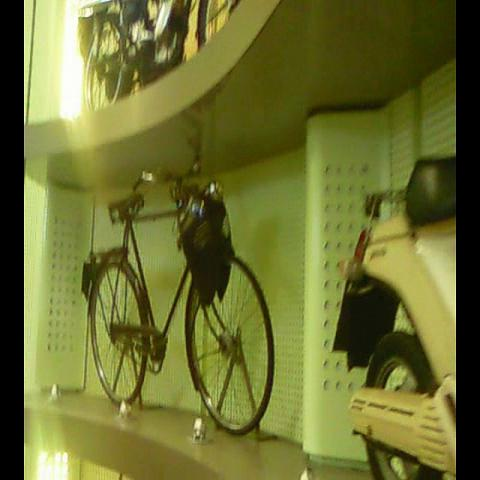motorcycle: (330, 154, 458, 479)
